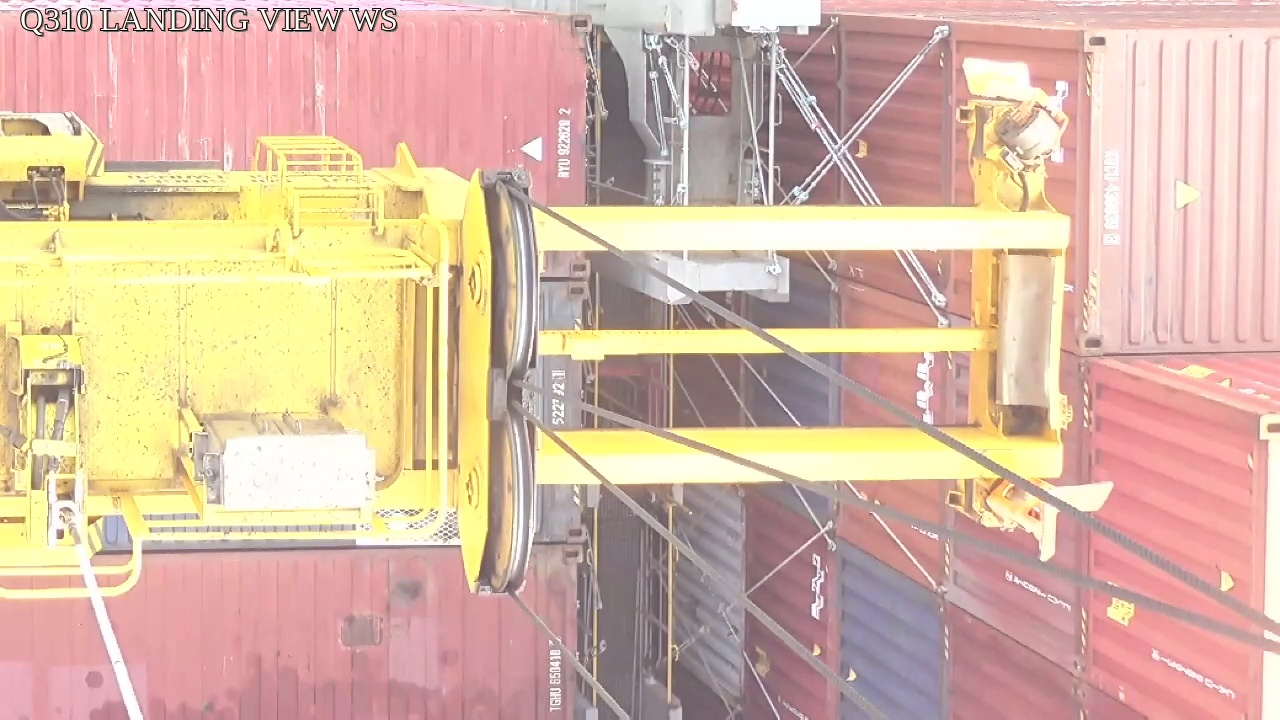right: (454, 168, 538, 593)
